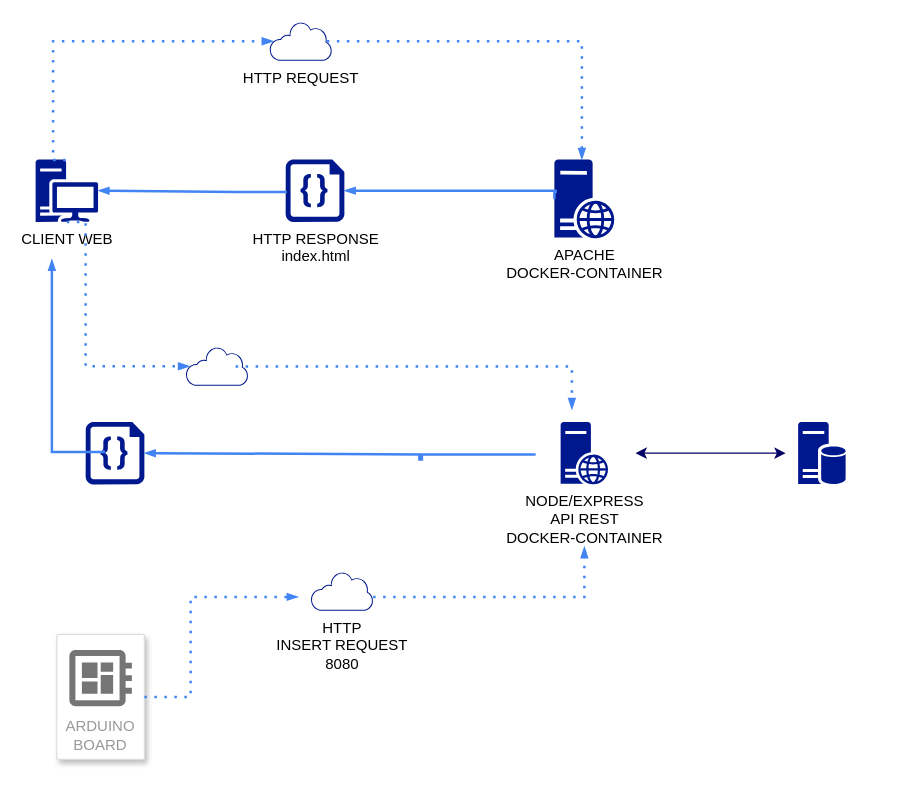
Image size: 921x790. Some labels were removed from this diagram. Here are the shapes that lost their labels. From the top down, the centre of each, then its label:
At point 216,365: "HTTP AJAX REQUEST 8080".
At point 114,452: "HTTP RESPONSE API REST json file".
At point 821,452: "MONGO DOCKER CONTAINER".
